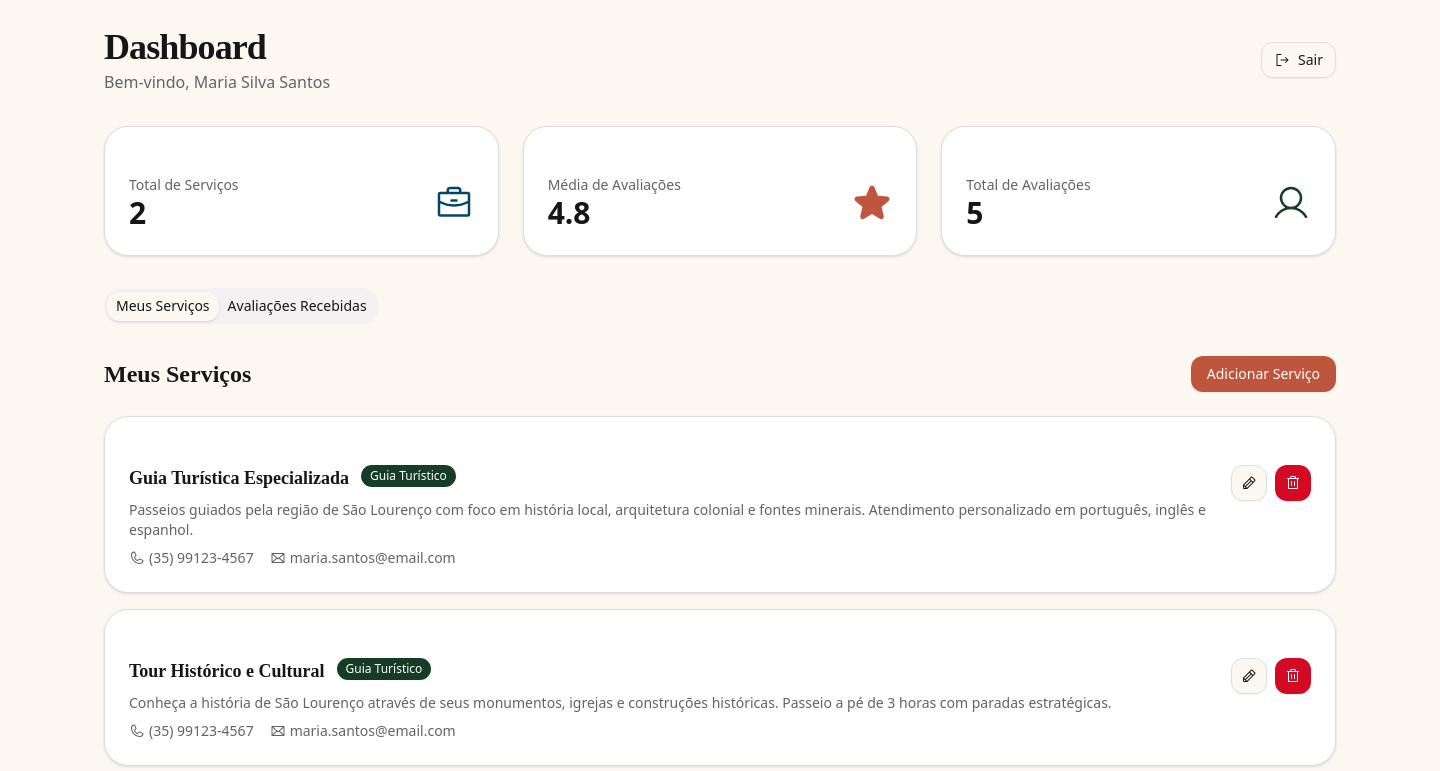
it: DashboardPage › adds a new service and shows it in the "Meus Serviços" list
Expected: the heading "Meus Serviços" is shown, [104,358,251,390]
Click the button "Adicionar Serviço" at (1263, 374), box [1191,356,1336,392]
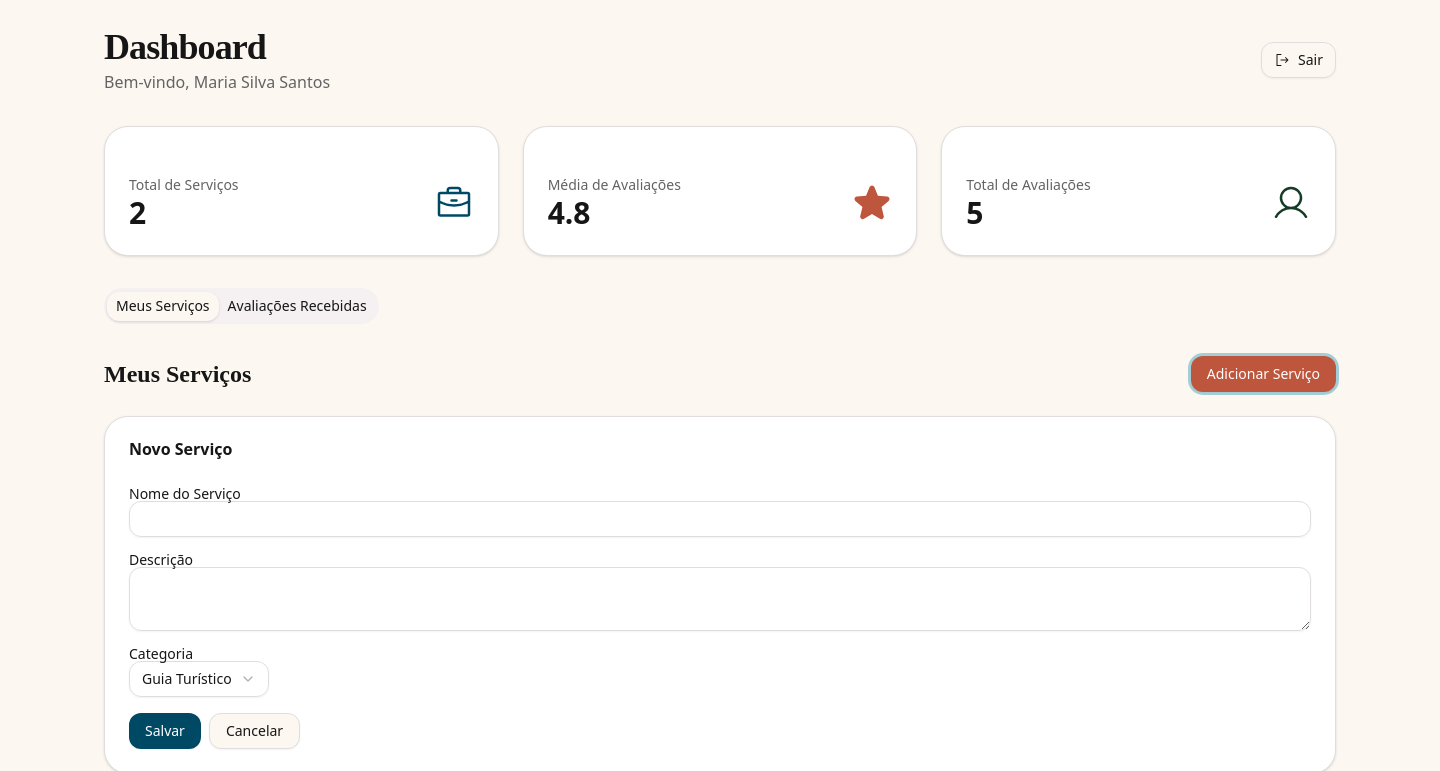
Type "Passeio Novo" into the field labelled "Nome do Serviço" at (720, 519), box [129,501,1311,537]
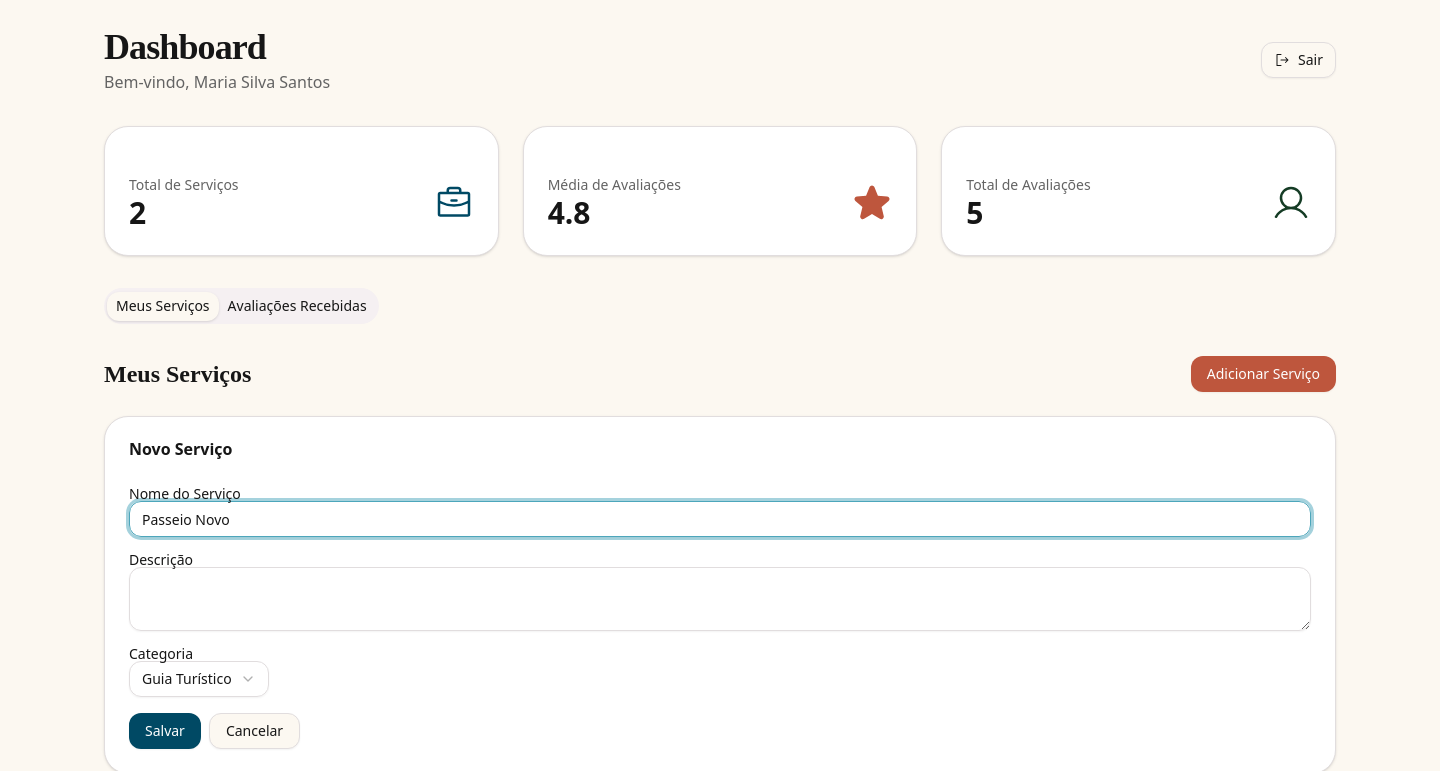
Type "Um passeio incrível" into the text box labelled "Descrição" at (720, 599), box [129,567,1311,631]
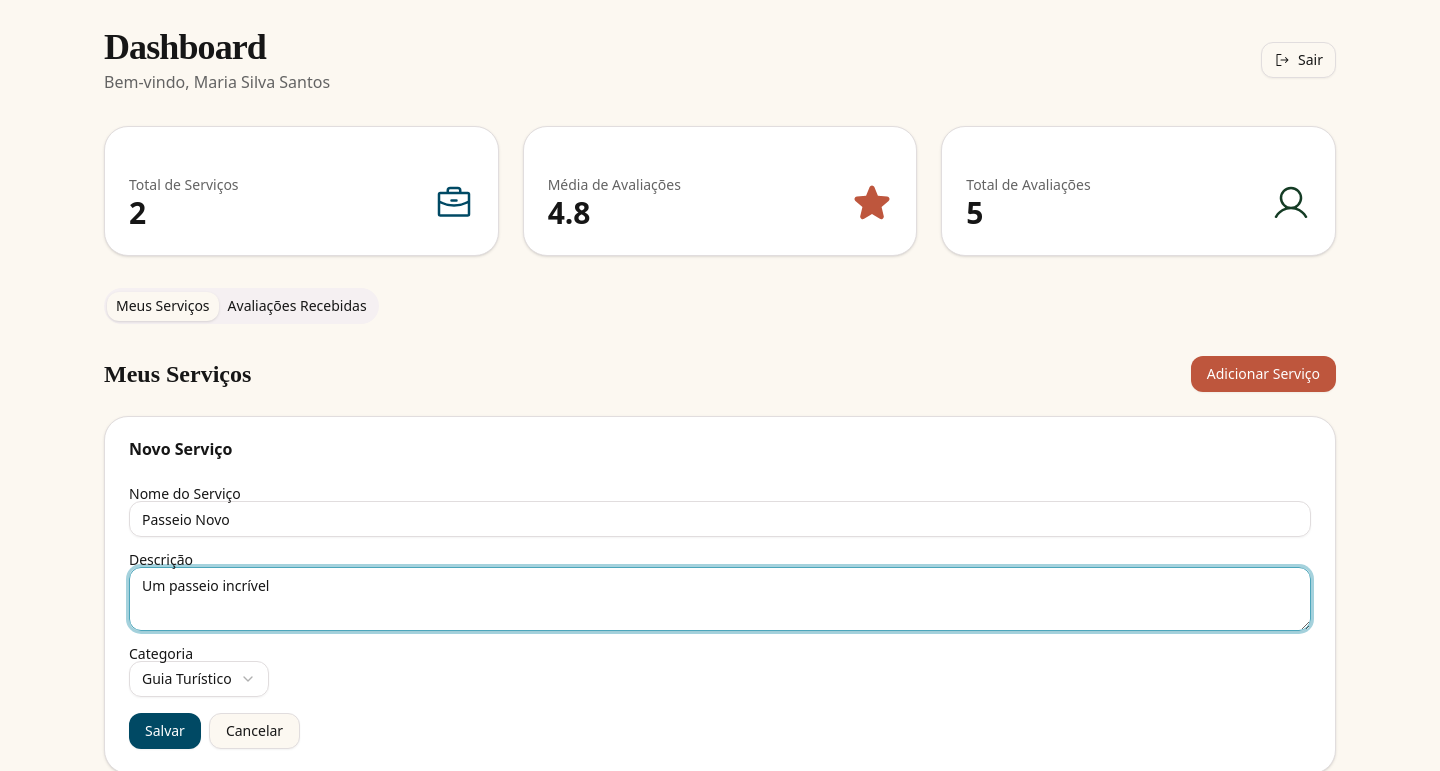
Click the button "Salvar" at (165, 731), box [129,713,201,749]
(page scrolled)
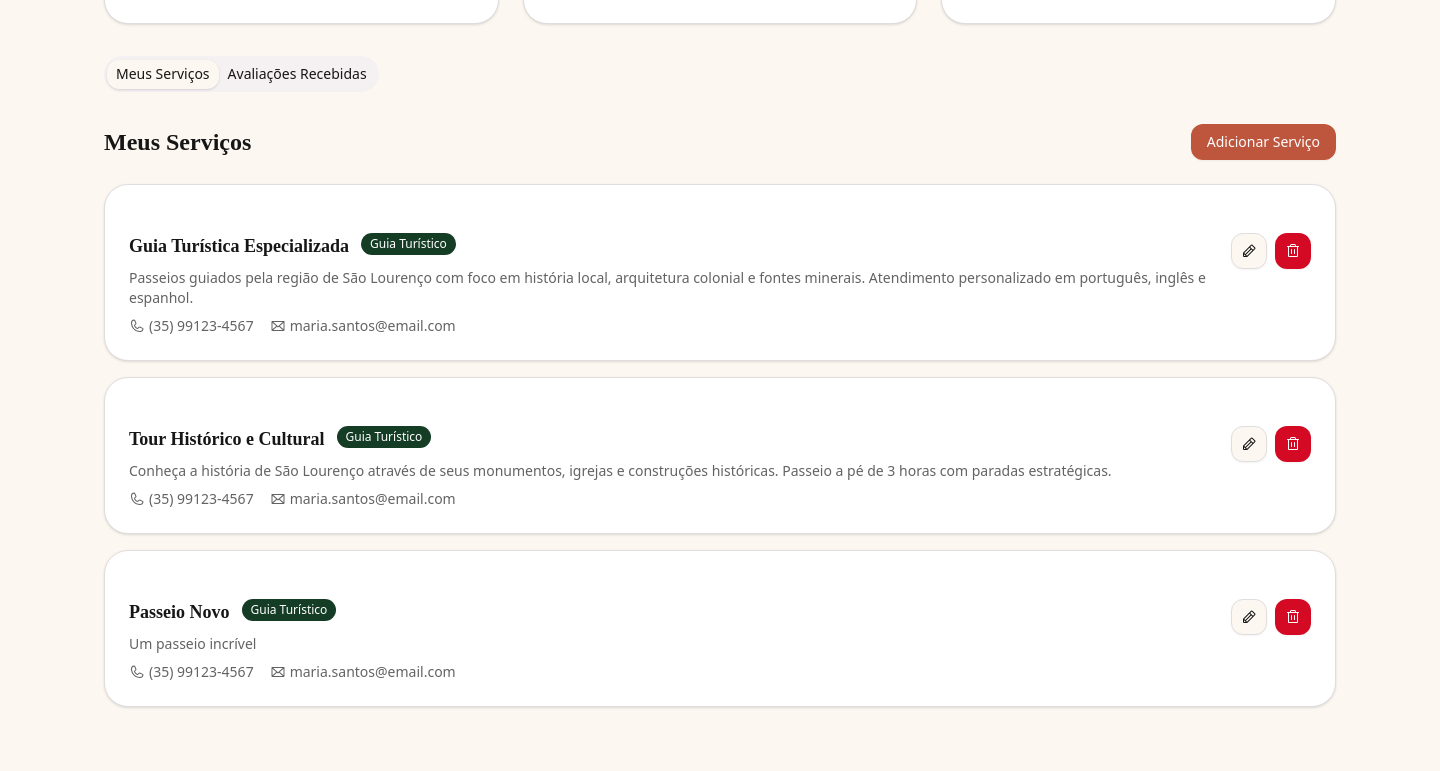
Expected: the heading "Passeio Novo" is shown, [129,599,230,626]
